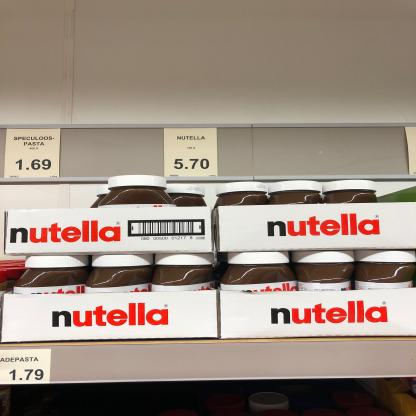prtg: (5, 129, 61, 179), (166, 129, 219, 178), (1, 350, 52, 385)
